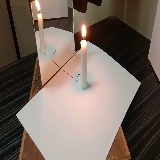fire: (82, 24, 86, 41)
